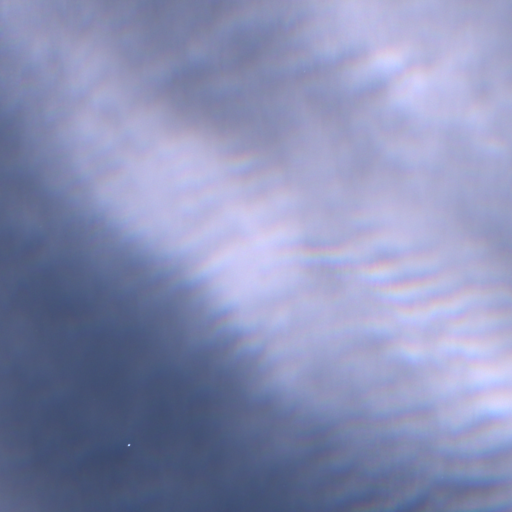Iceberg: (127, 444, 130, 446)
